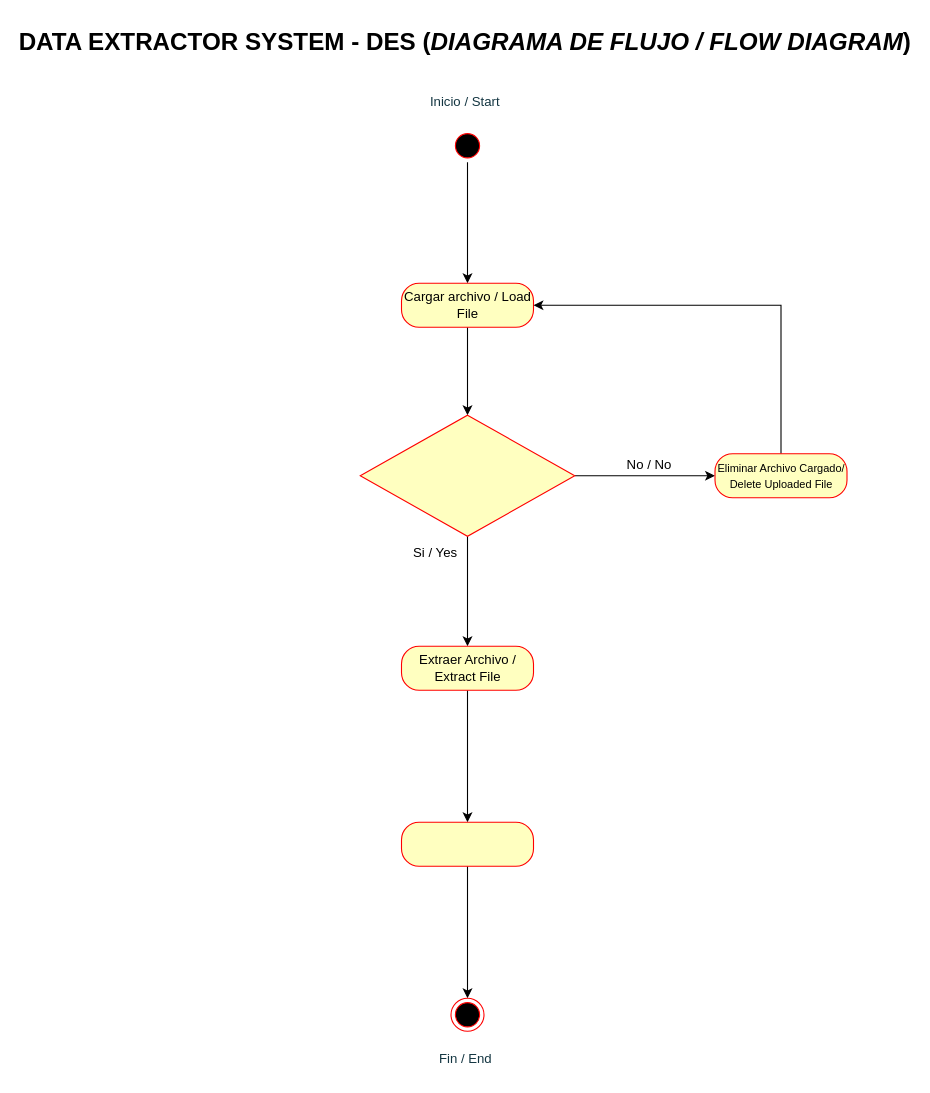
This 930x1093 diagram has some shape labels left out. The shapes that lost their labels are listed below. From the top down, each one's centre as x and y in pixels, then its label:
the point at 467,475: ¿Deseas conservar el archivo cargado?/¿Want to keep the uploaded file?
the point at 467,843: Exportar a (.txt) / Export to (.txt)
